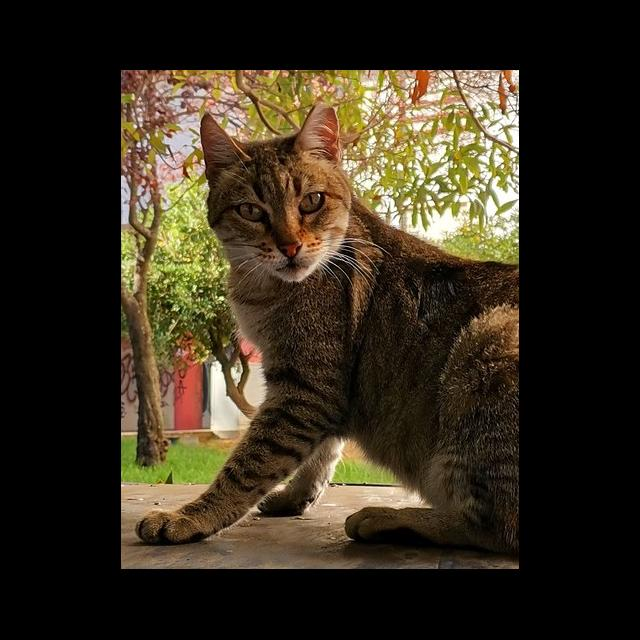animals: (136, 103, 519, 551), (372, 73, 481, 105)
